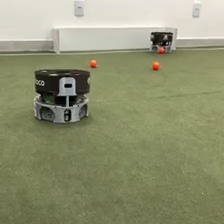ball: (151, 60, 161, 70), (89, 58, 98, 67), (157, 45, 165, 53)
goal: (51, 23, 178, 55)
robot: (31, 66, 91, 124), (149, 30, 174, 54)
